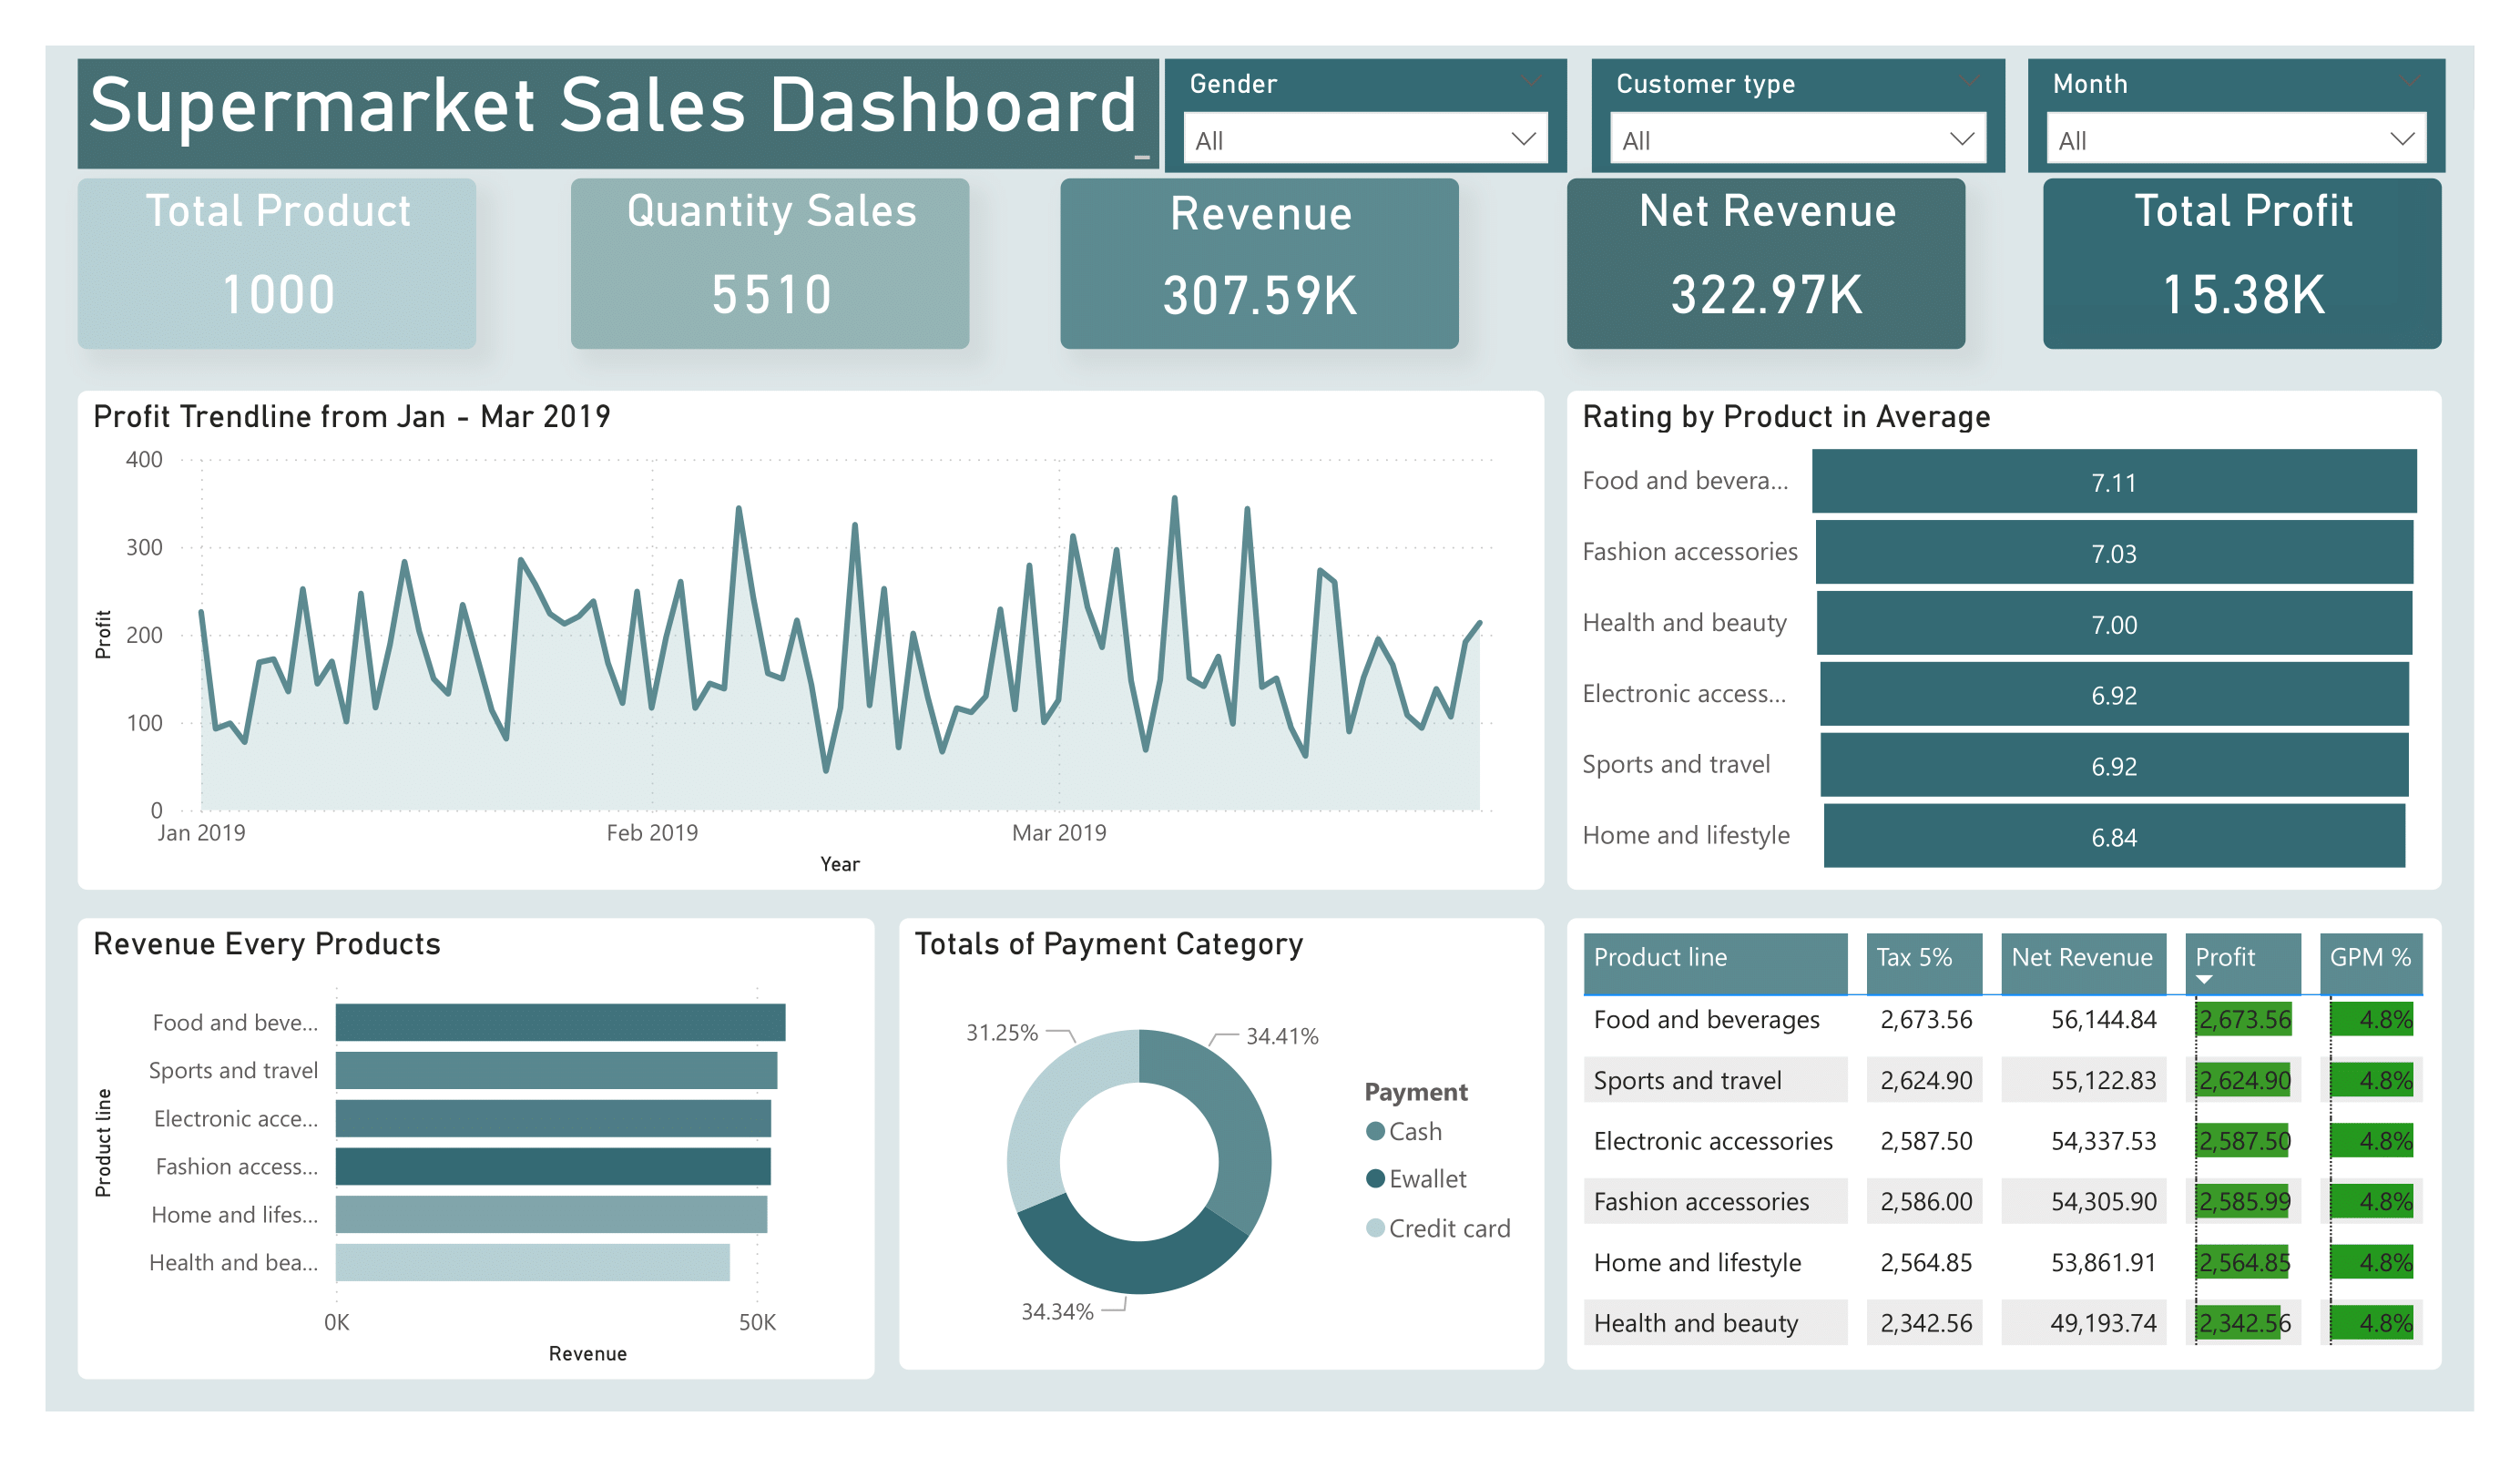

What the dashboard file says about the page in this screenshot:
{"tool":"powerbi","page":{"name":"Page 1","canvas":[1280,720],"ordinal":0},"visuals":[{"type":"tableEx","fields":{"Values":["supermarket_sales.Product line","supermarket_sales.Tax 5%","supermarket_sales.Net Revenue","supermarket_sales.Profit","supermarket_sales.GPM %"]},"box":[801.7,460,461.7,238.3],"z":0},{"type":"donutChart","title":"Totals of Payment Category","fields":{"Y":["Sum(supermarket_sales.Quantity)"],"Category":["supermarket_sales.Payment"]},"box":[450,460,340,238.3],"z":1000},{"type":"barChart","title":"Revenue Every Products","fields":{"Category":["supermarket_sales.Product line"],"Y":["supermarket_sales.Revenue"]},"box":[16.7,460,420,243.3],"z":2000},{"type":"areaChart","title":"Profit Trendline from Jan - Mar 2019","fields":{"Y":["supermarket_sales.Profit"],"Category":["supermarket_sales.Date.Variation.Date Hierarchy.Year","supermarket_sales.Date.Variation.Date Hierarchy.Quarter","supermarket_sales.Date.Variation.Date Hierarchy.Month","supermarket_sales.Date.Variation.Date Hierarchy.Day"]},"box":[16.7,181.7,773.3,263.3],"z":3000},{"type":"funnel","title":"Rating by Product in Average","fields":{"Y":["Avg(supermarket_sales.Rating)"],"Category":["supermarket_sales.Product line"]},"box":[801.7,181.7,461.7,263.3],"z":4000},{"type":"slicer","fields":{"Values":["supermarket_sales.Date.Variation.Date Hierarchy.Month"]},"box":[1045,6.7,220,60],"z":5000},{"type":"slicer","fields":{"Values":["supermarket_sales.Customer type"]},"box":[815,6.7,218.3,60],"z":6000},{"type":"slicer","fields":{"Values":["supermarket_sales.Gender"]},"box":[590,6.7,211.7,60],"z":7000},{"type":"textbox","title":"Supermarket Sales Dashboard","box":[16.7,6.7,570,58.3],"z":8000},{"type":"card","title":"Revenue","fields":{"Values":["supermarket_sales.Revenue"]},"box":[535,70,210,90],"z":9000},{"type":"card","title":"Quantity Sales","fields":{"Values":["Sum(supermarket_sales.Quantity)"]},"box":[276.7,70,210,90],"z":10000},{"type":"card","title":"Total Product","fields":{"Values":["CountNonNull(supermarket_sales.Product line)"]},"box":[16.7,70,210,90],"z":11000},{"type":"card","title":"Net Revenue","fields":{"Values":["supermarket_sales.Net Revenue"]},"box":[801.7,70,210,90],"z":12000},{"type":"card","title":"Total Profit","fields":{"Values":["supermarket_sales.Profit"]},"box":[1053.3,70,210,90],"z":13000}]}

Visuals, with their boxes in screenshot pixels (x1, y1, x2, y2):
tableEx - supermarket_sales.Product line x supermarket_sales.Tax 5%: bbox=(1566, 918, 2443, 1370)
"Totals of Payment Category" donutChart: bbox=(900, 918, 1545, 1370)
"Revenue Every Products" barChart: bbox=(77, 918, 874, 1380)
"Profit Trendline from Jan - Mar 2019" areaChart: bbox=(77, 391, 1545, 890)
"Rating by Product in Average" funnel: bbox=(1566, 391, 2443, 890)
slicer - supermarket_sales.Date.Variation.Date Hierarchy.Month: bbox=(2028, 58, 2446, 172)
slicer - supermarket_sales.Customer type: bbox=(1592, 58, 2006, 172)
slicer - supermarket_sales.Gender: bbox=(1165, 58, 1566, 172)
"Supermarket Sales Dashboard" textbox: bbox=(77, 58, 1158, 168)
"Revenue" card: bbox=(1061, 178, 1459, 349)
"Quantity Sales" card: bbox=(571, 178, 969, 349)
"Total Product" card: bbox=(77, 178, 475, 349)
"Net Revenue" card: bbox=(1566, 178, 1965, 349)
"Total Profit" card: bbox=(2045, 178, 2443, 349)
